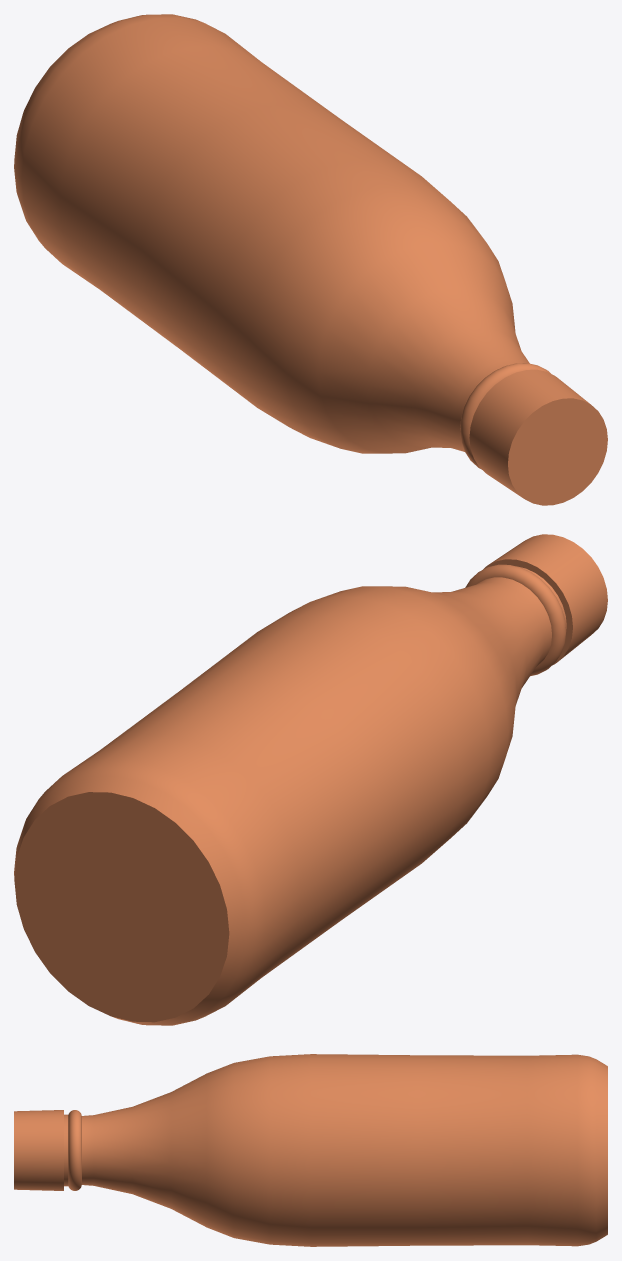
File: jiro_soju_4k.gltf
3 renders of one model, top to bottom at view 1: azimuth 30°, elevation 25°; view 2: azimuth 150°, elevation 25°; view 3: azimuth 270°, elevation 25°, orthographic. The views are drawn at different scales.
Parts seen in each view (by area): view 1: Part 1; view 2: Part 1; view 3: Part 1.
Part boxes in pixels (bbox=[...]): Part 1: bbox=[14, 14, 607, 505]; Part 1: bbox=[14, 534, 607, 1025]; Part 1: bbox=[14, 1054, 607, 1246].
Bounding box in the file's own units: 0.016 × 0.0159 × 0.049.
